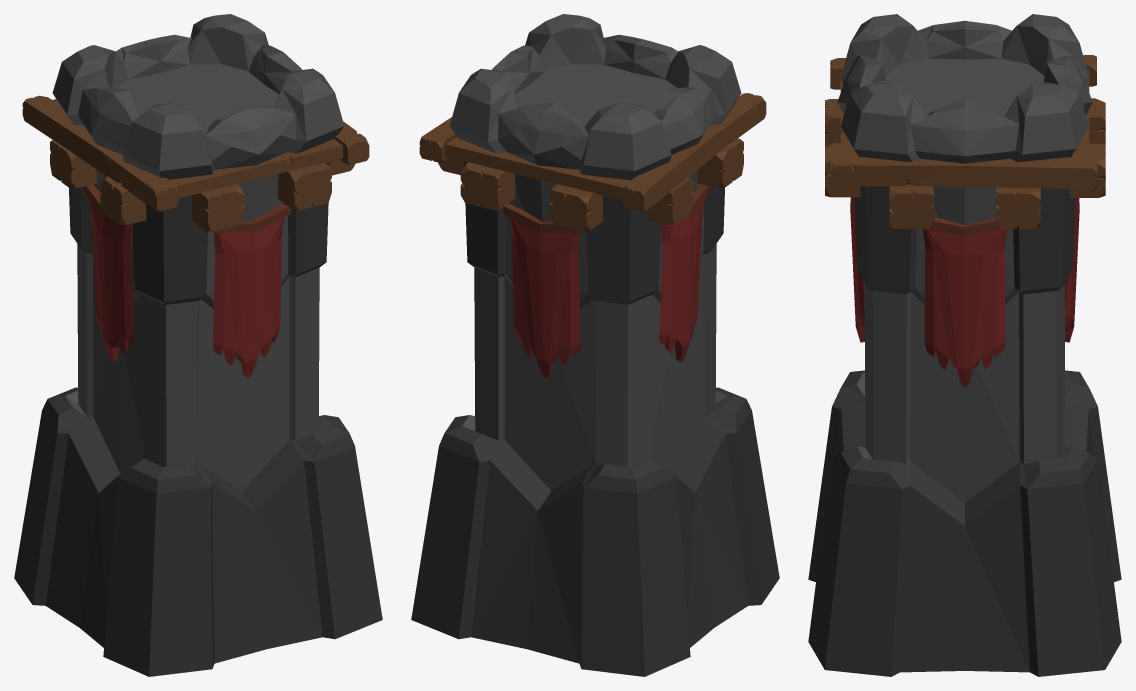
Rendered from RoyalStoneTower.fbx.
3 views of the same model, side by side, from view 1: azimuth 30°, elevation 25°; view 2: azimuth 150°, elevation 25°; view 3: azimuth 270°, elevation 25° (orthographic). The views are drawn at different scales.
Parts seen in each view (by area): view 1: RoyalStoneTower_LOD0; view 2: RoyalStoneTower_LOD0; view 3: RoyalStoneTower_LOD0.
Boxes of the visible parts, <box> form: RoyalStoneTower_LOD0: <box>14,14,382,676</box>; RoyalStoneTower_LOD0: <box>411,14,779,676</box>; RoyalStoneTower_LOD0: <box>808,14,1121,676</box>.
Size of what is drawn, in the model's own units: 223 by 437 by 223.
